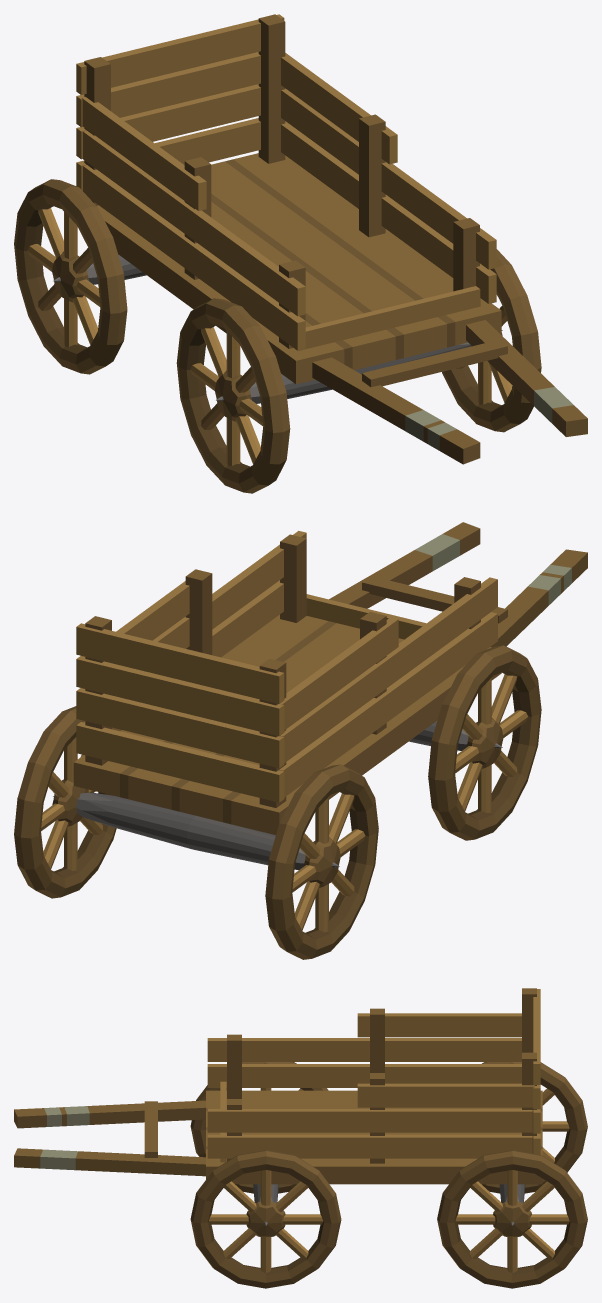
Rendered from chariot.fbx.
The picture shows the model from 3 angles, top to bottom: view 1: azimuth 30°, elevation 25°; view 2: azimuth 150°, elevation 25°; view 3: azimuth 270°, elevation 25°; orthographic projection. The views are drawn at different scales.
Visible parts, largest first — view 1: polySurface39; view 2: polySurface39; view 3: polySurface39.
Part boxes in pixels (x1,y1,x2,y2): polySurface39: (14, 14, 587, 493); polySurface39: (14, 522, 587, 959); polySurface39: (14, 988, 587, 1288).
Size of the model in its own units: 3.55 by 3.38 by 8.09.
